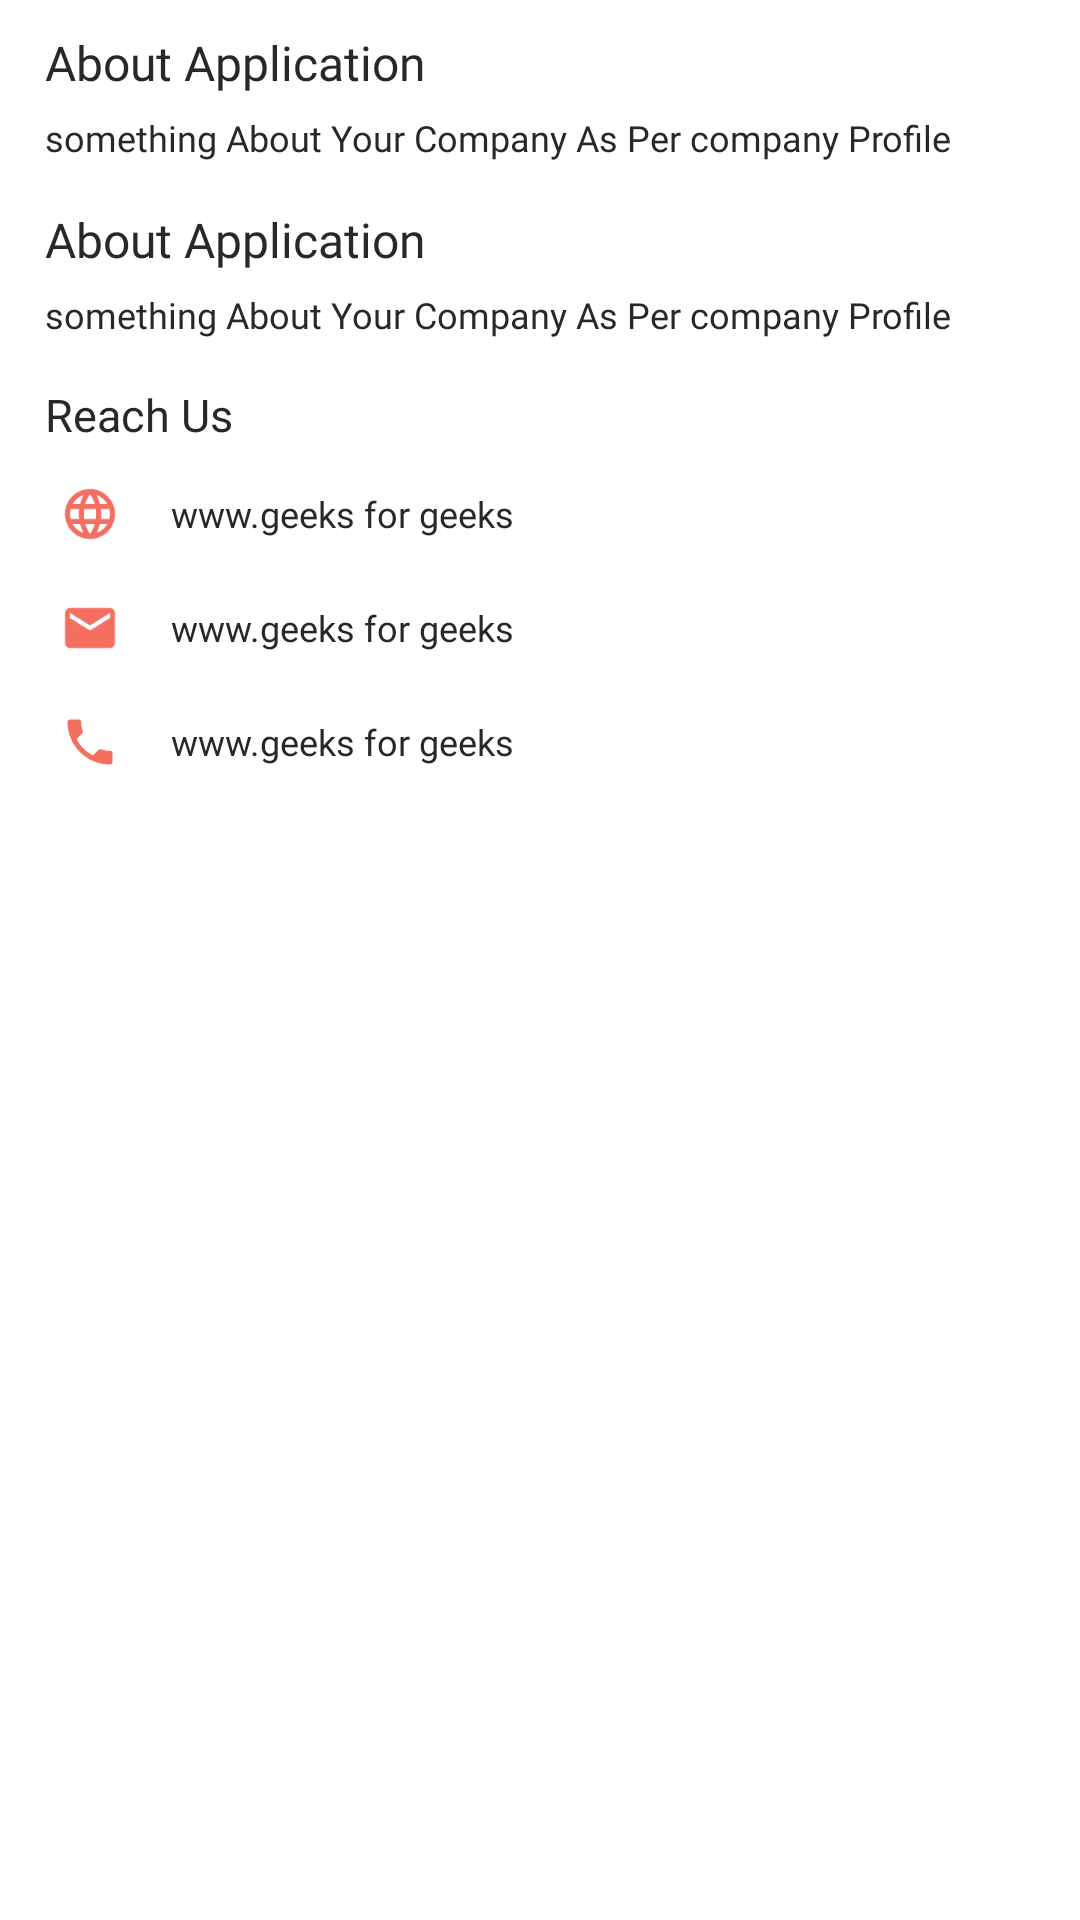

Screen size 1080px x 1920px. Icon name, then its center in pixels as point (x, y):
email: point (90, 628)
language: point (90, 514)
phone: point (90, 742)
